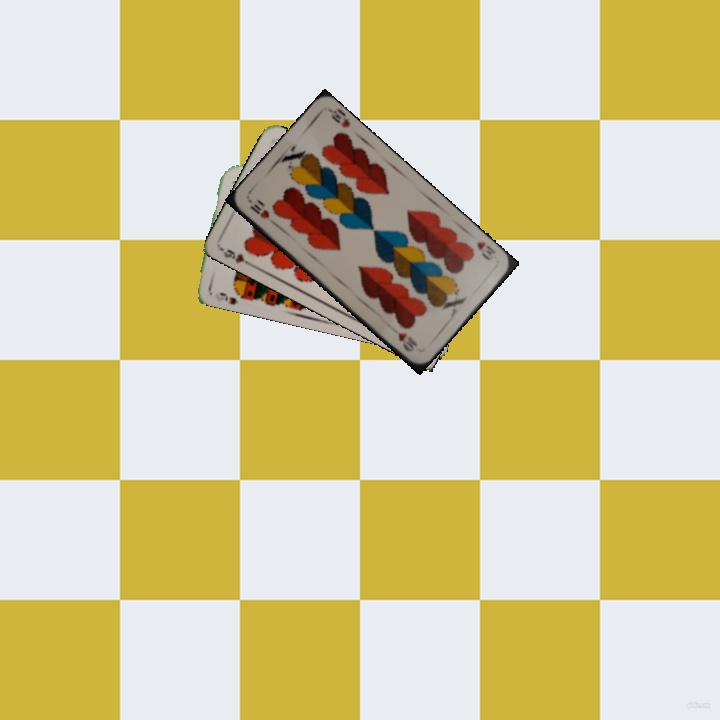H10: (472, 237, 499, 263), (246, 200, 272, 222)
H9: (217, 244, 255, 269)
S9: (211, 287, 249, 307)
